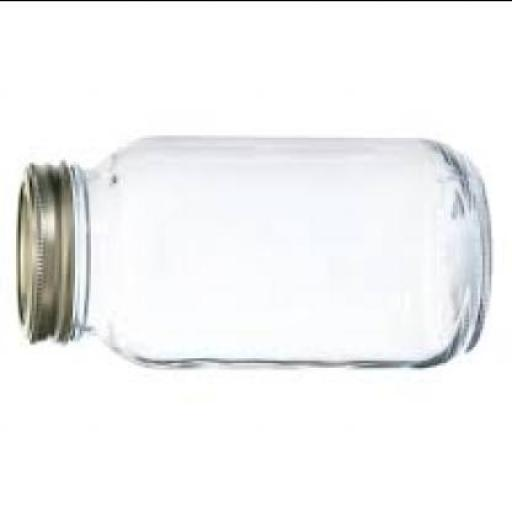glass: (63, 132, 487, 369)
metal: (14, 159, 64, 339)
